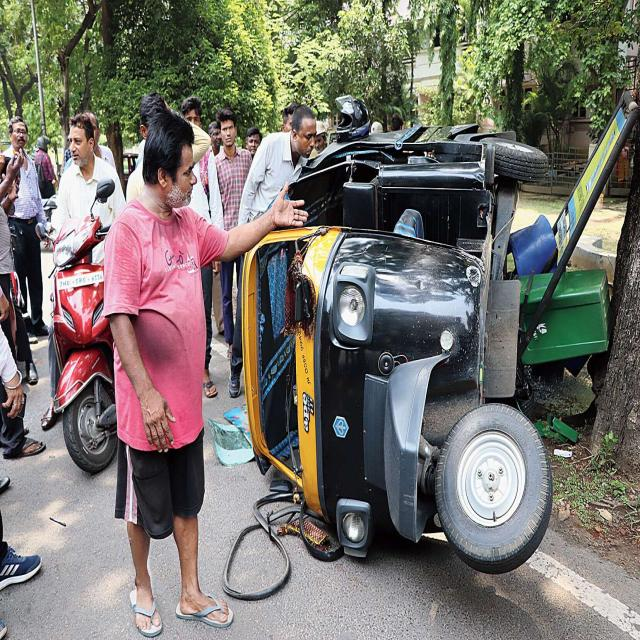accident: (242, 98, 571, 572)
motorcycle: (51, 114, 125, 473)
